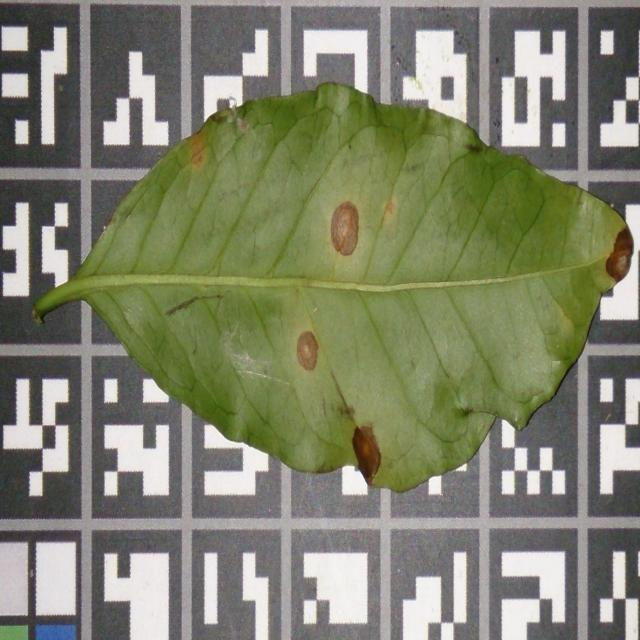Enfermedad-Mancha-de-hierro: (32, 82, 634, 495)
